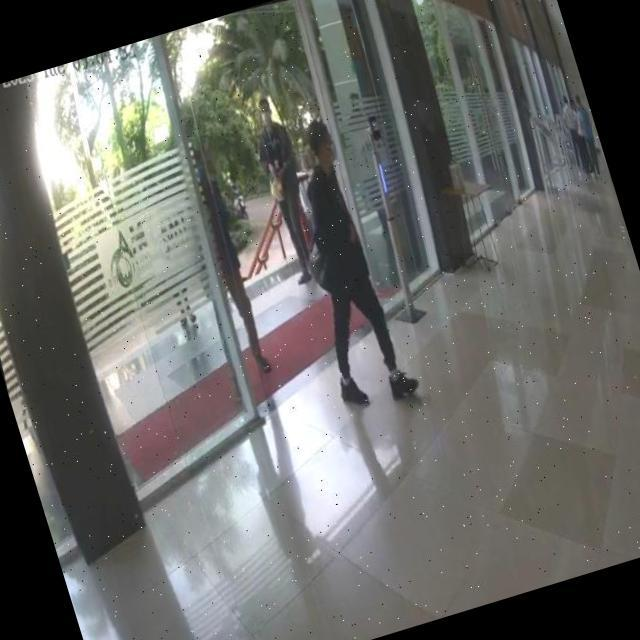person: (262, 110, 439, 415), (156, 139, 288, 408), (230, 88, 336, 292)
